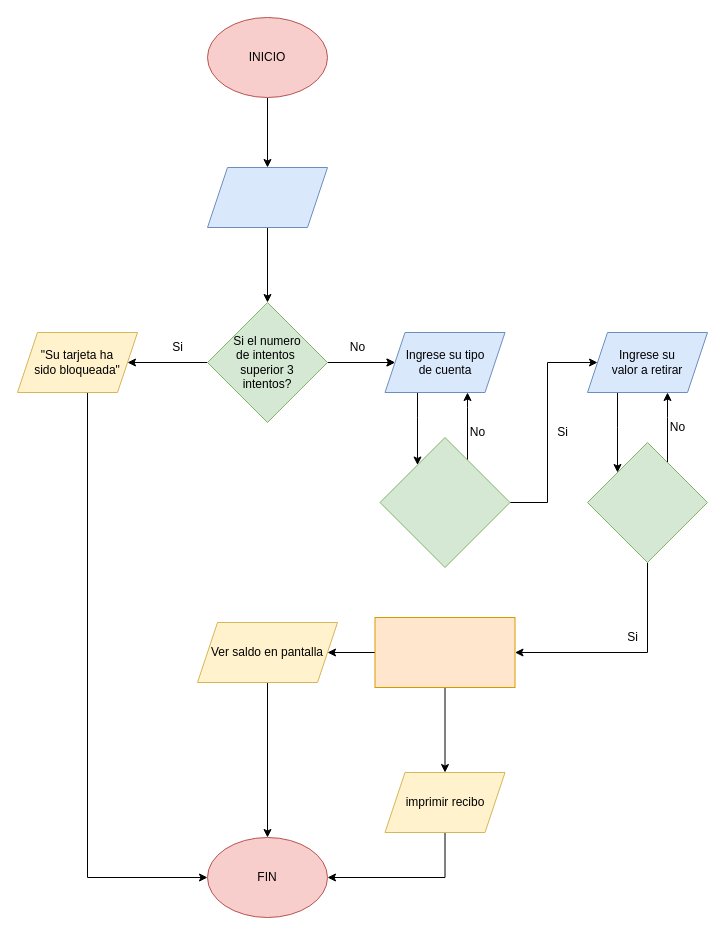
Some shapes in this 725 by 935 pixel diagram are drawn without their labels. The box of each missing label's shape, as (x1, y1, x2, y2) in pixels:
"Seleccione una opcion" -ver saldo en pantalla -imprimir recibo: (374, 616, 515, 688)
Ingrese su clave: (206, 166, 328, 228)
Su tipo de cuenta es correcta?: (379, 436, 510, 568)
Su valor a retirar esta disponible?: (586, 442, 708, 562)
